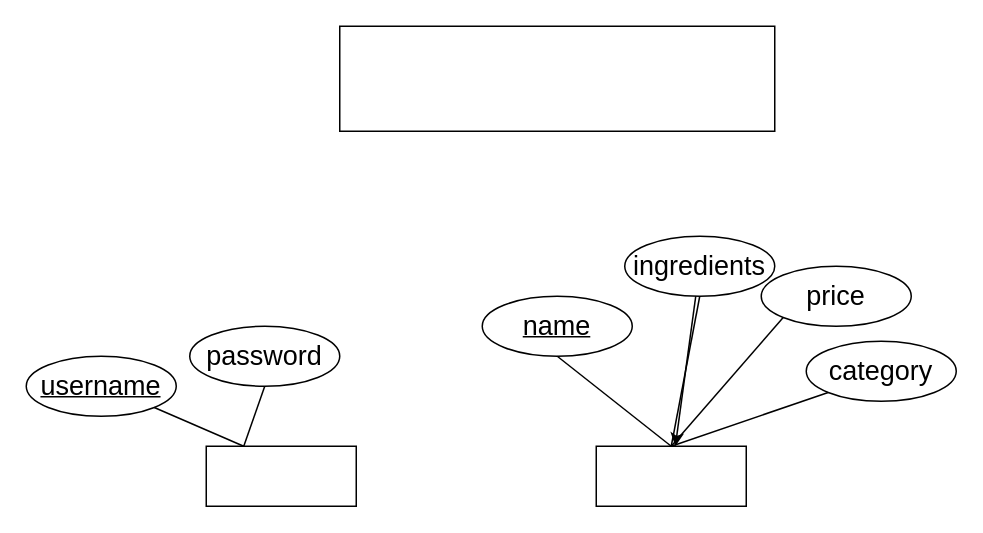
Image size: 983x533. Some labels were removed from this diagram. The centre of each missing label's shape, as x and y in pixels:
"Dish" goes at [670,475].
"Tabels for Linköpings Sushi database" goes at [556,78].
"User" goes at [280,475].
